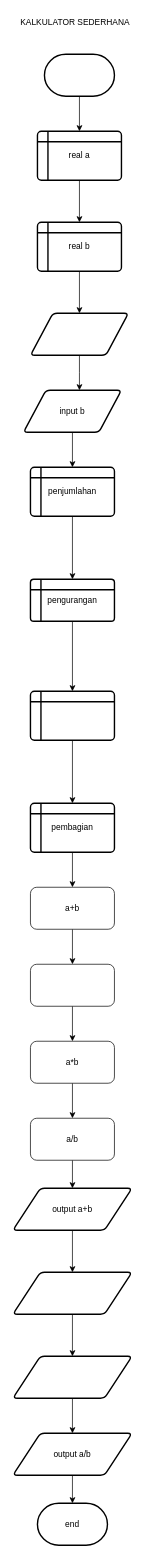
Some shapes in this 145 by 1558 pixel diagram are drawn without their labels. The shapes that lost their labels are listed below. From the top down, each one's box as (x1, y1, x2, y2) in pixels, then its label:
(43, 53, 115, 97): main
(29, 312, 129, 356): input a
(29, 690, 115, 741): perkalian
(30, 964, 114, 1006): a-b
(12, 1271, 132, 1315): output a-b
(12, 1355, 132, 1399): output a*b
